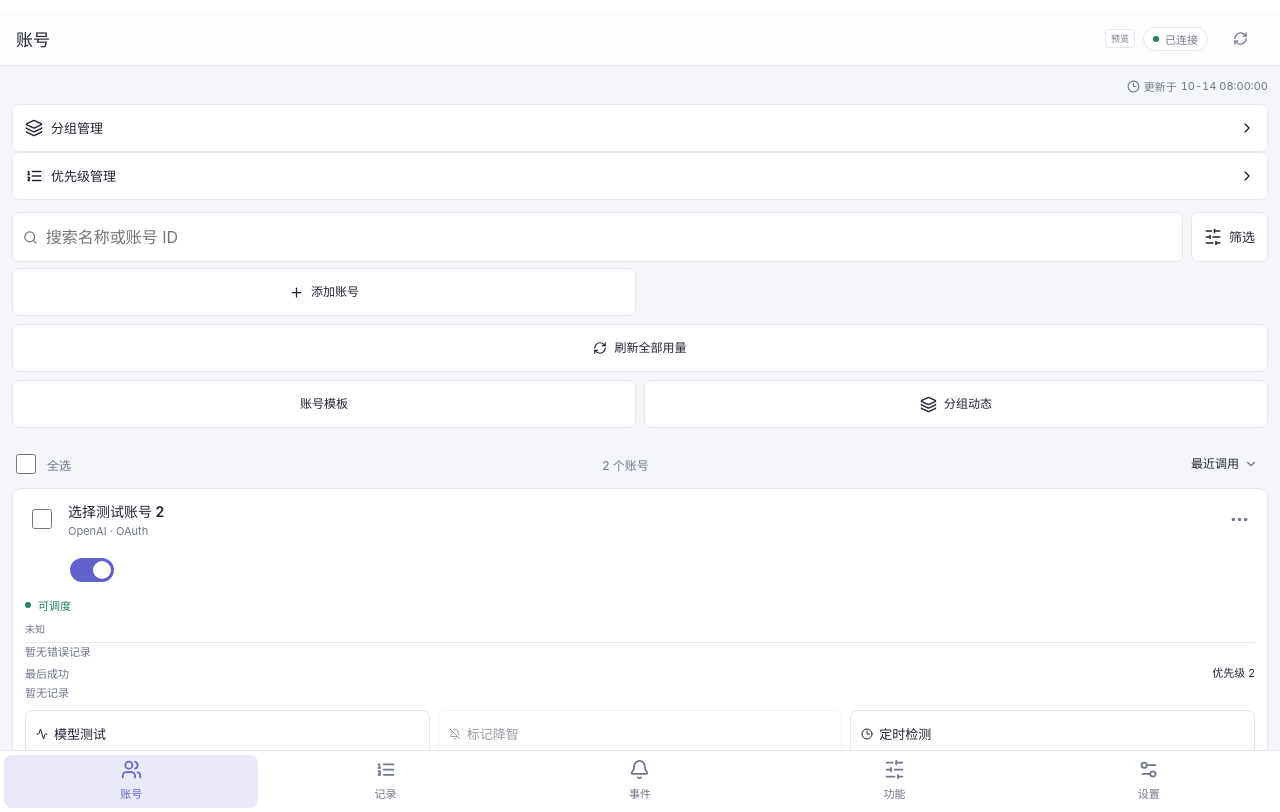
it: main account selection surface › places mobile select-all in the sort row and hides the selection bar when no account is selected
The width and height of the screenshot is (1280, 812).
Click the checkbox named "全选当前筛选账号" at [26, 464], box [16, 454, 36, 474]
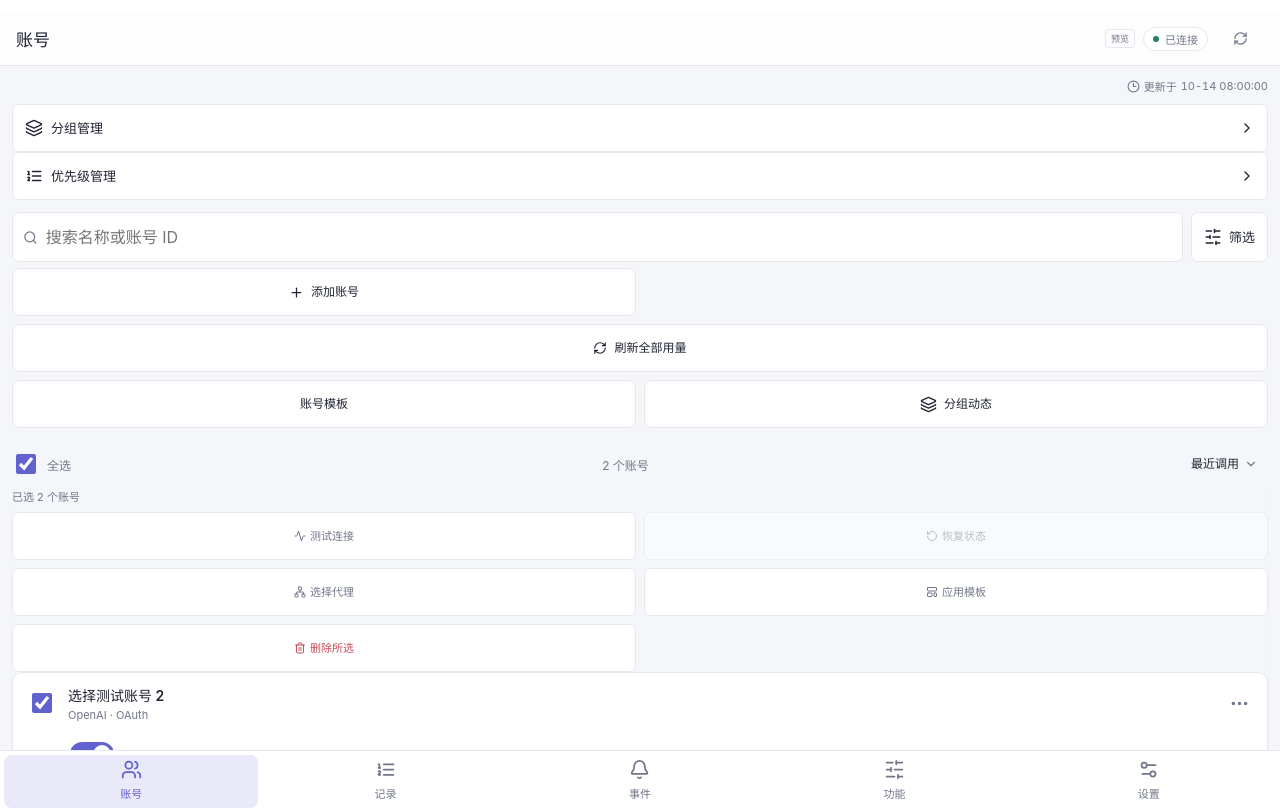
Check: the element with class "selection-bar" shows "已选 2 个账号", box [12, 488, 1268, 672]
Click the checkbox named "全选当前筛选账号" at [26, 464], box [16, 454, 36, 474]
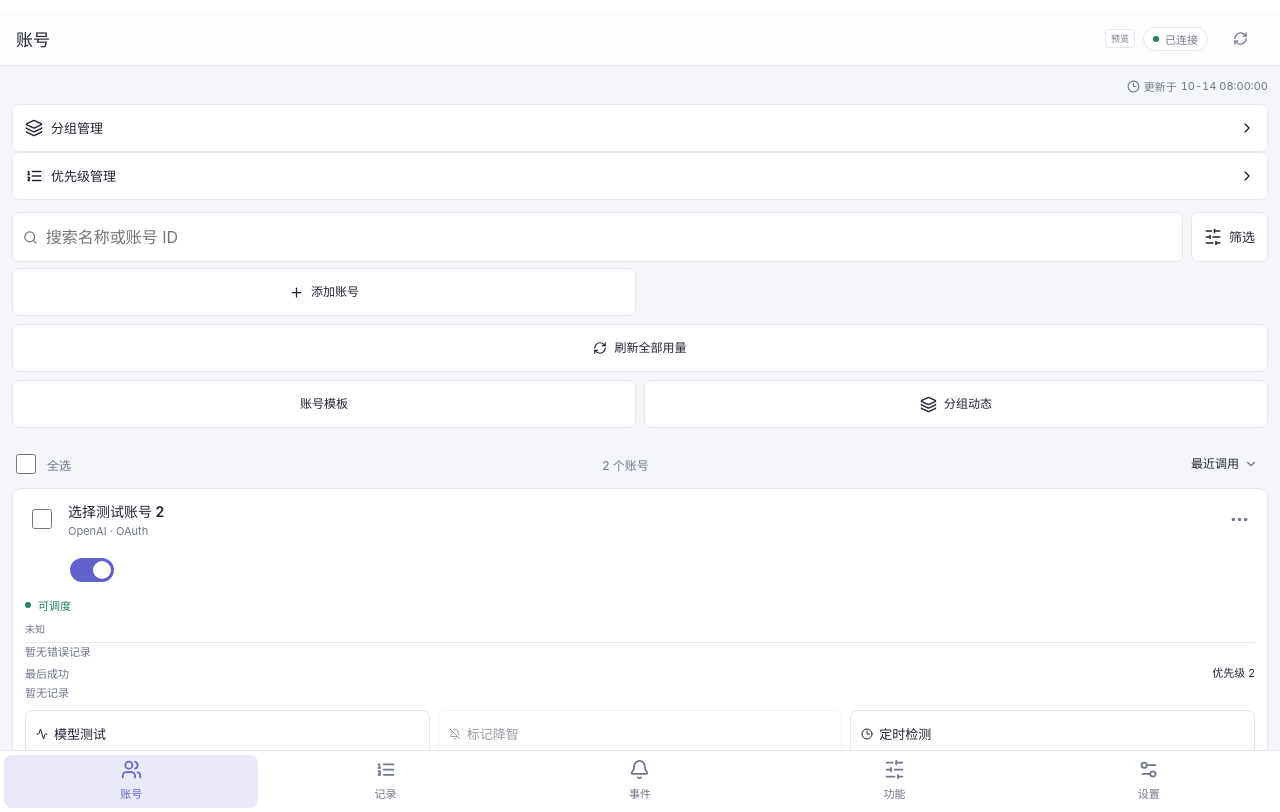
Check: the element with class "selection-bar" is gone
